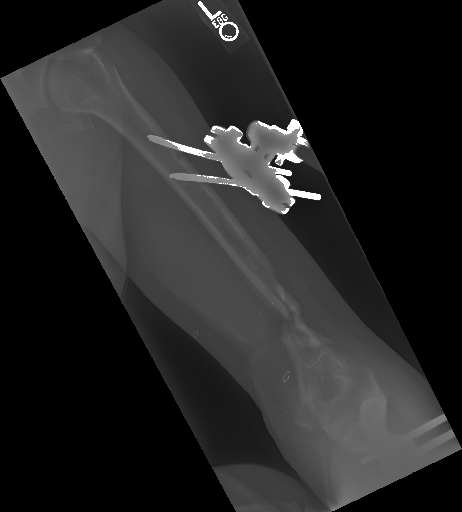fracture: (265, 272, 319, 355)
implant: (132, 101, 323, 224)
